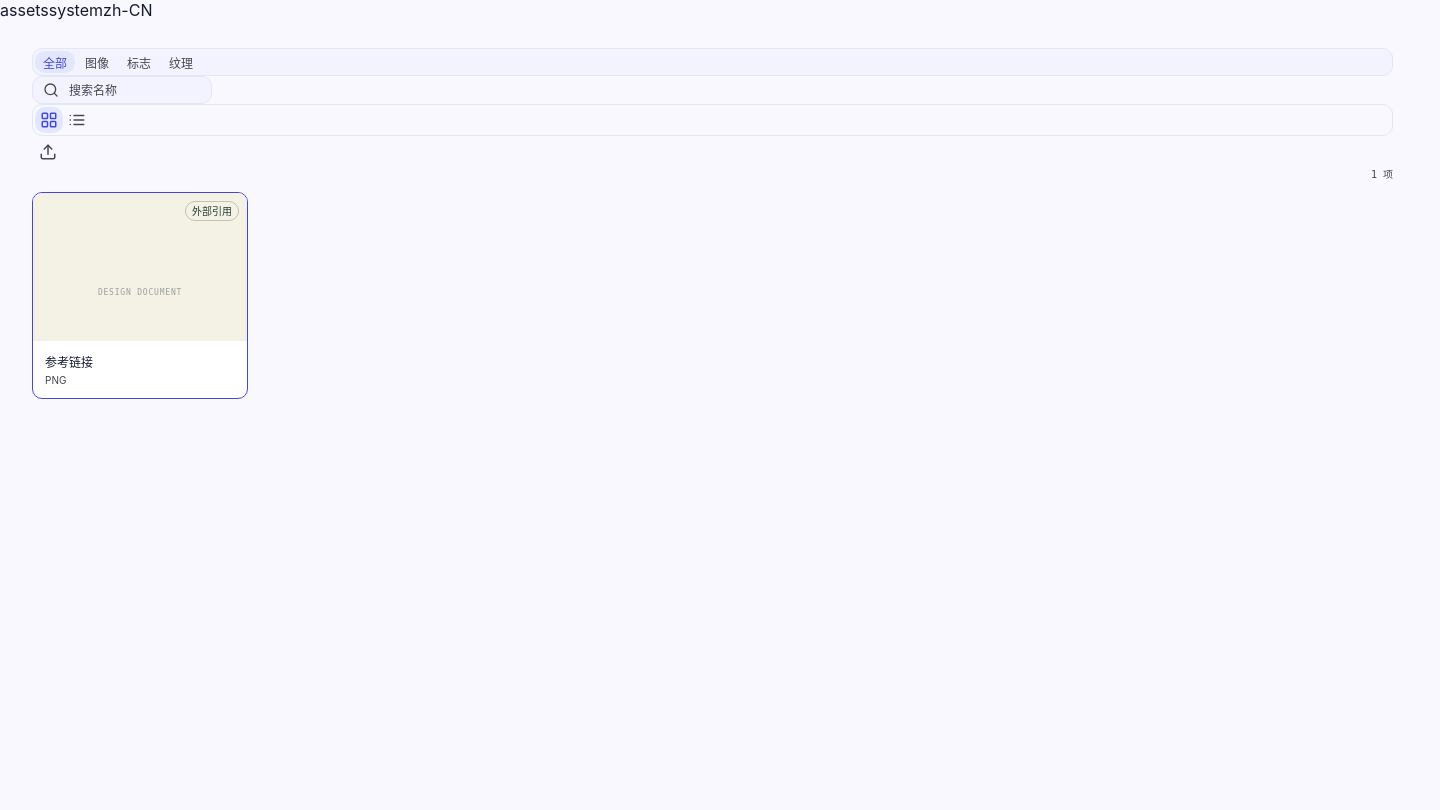
keeps external asset references visibly unmanaged in project details
Click the button "DESIGN DOCUMENT 参考链接 PNG 外部引用": (140, 296) [32,192,248,399]
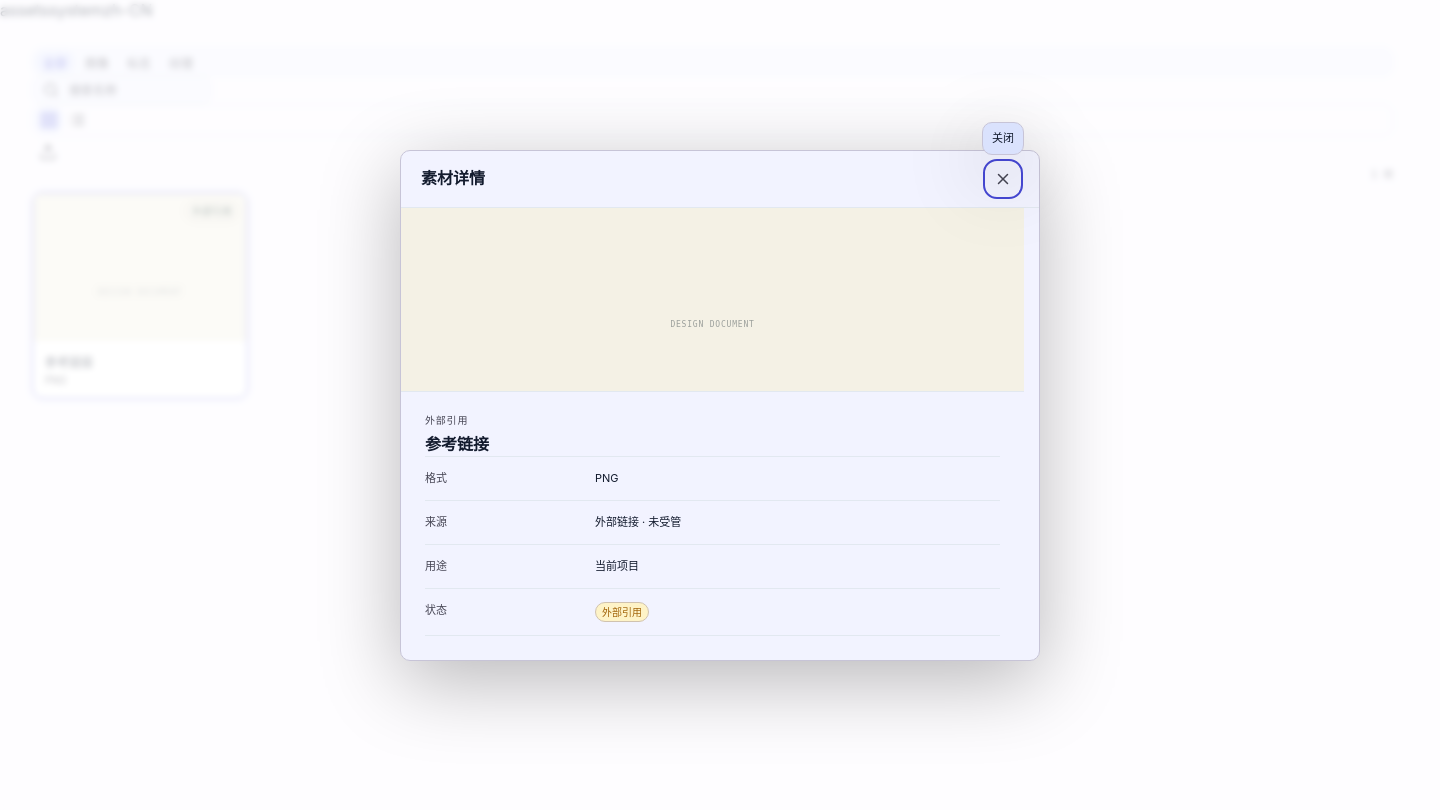
Expected: the 1st text "外部引用" is shown, [425,414,468,426]
